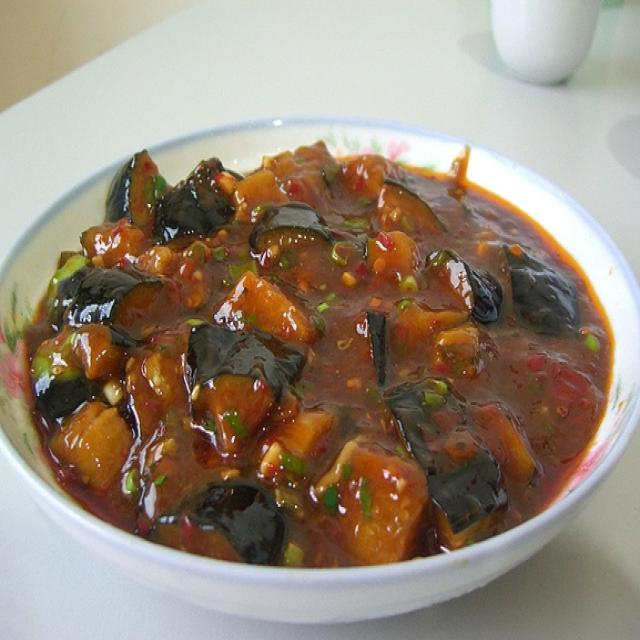鸡蛋料理: (31, 101, 613, 594)
